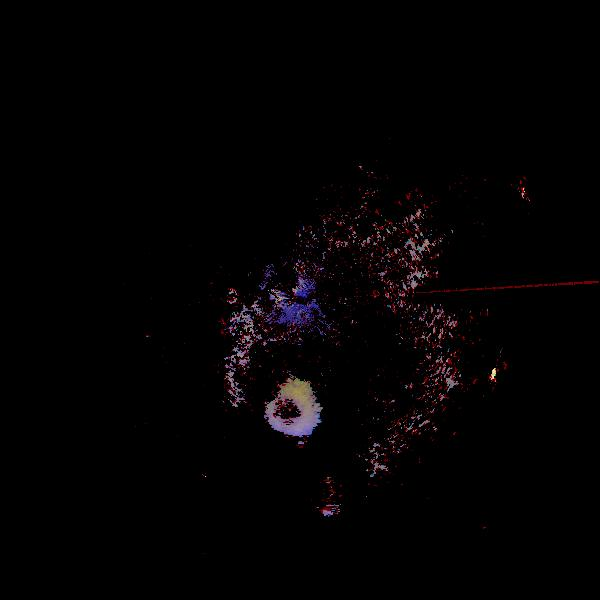roost: (263, 386, 317, 440), (299, 475, 347, 523)
